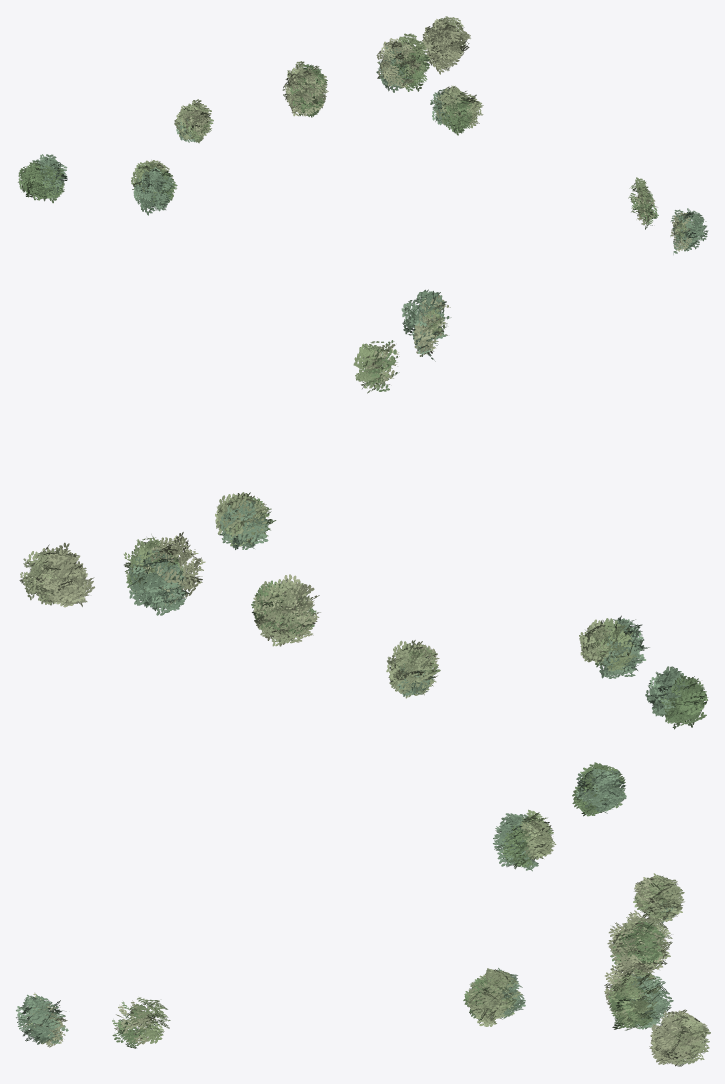
Rendered from campus-tree-0_-2-near-photo.glb.
The picture shows the model from 3 angles, top to bottom: view 1: azimuth 30°, elevation 25°; view 2: azimuth 150°, elevation 25°; view 3: azimuth 270°, elevation 25°; orthographic projection. The views are drawn at different scales.
Visible parts, largest first — view 1: Campus leaf canopy; view 2: Campus leaf canopy; view 3: Campus leaf canopy.
Part boxes in pixels (<box>): Campus leaf canopy: <box>18,16,708,254</box>; Campus leaf canopy: <box>19,289,708,729</box>; Campus leaf canopy: <box>16,762,710,1066</box>.
Bounding box in the file's own units: 52.82 × 7.64 × 54.02.
Materials: 1 (1 with a texture image).
